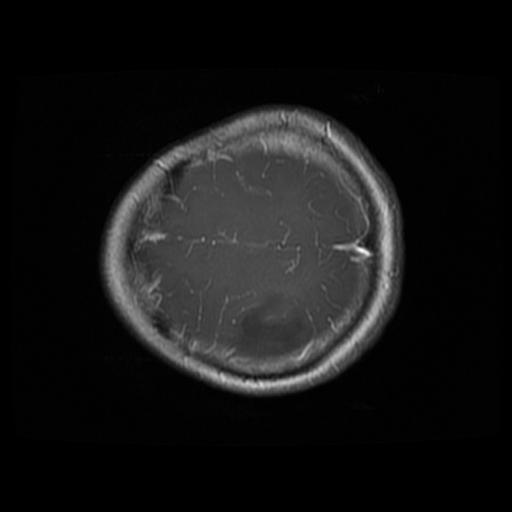glioma: (225, 299, 301, 359)
